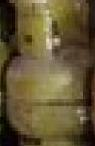cylinder: (1, 1, 95, 146)
